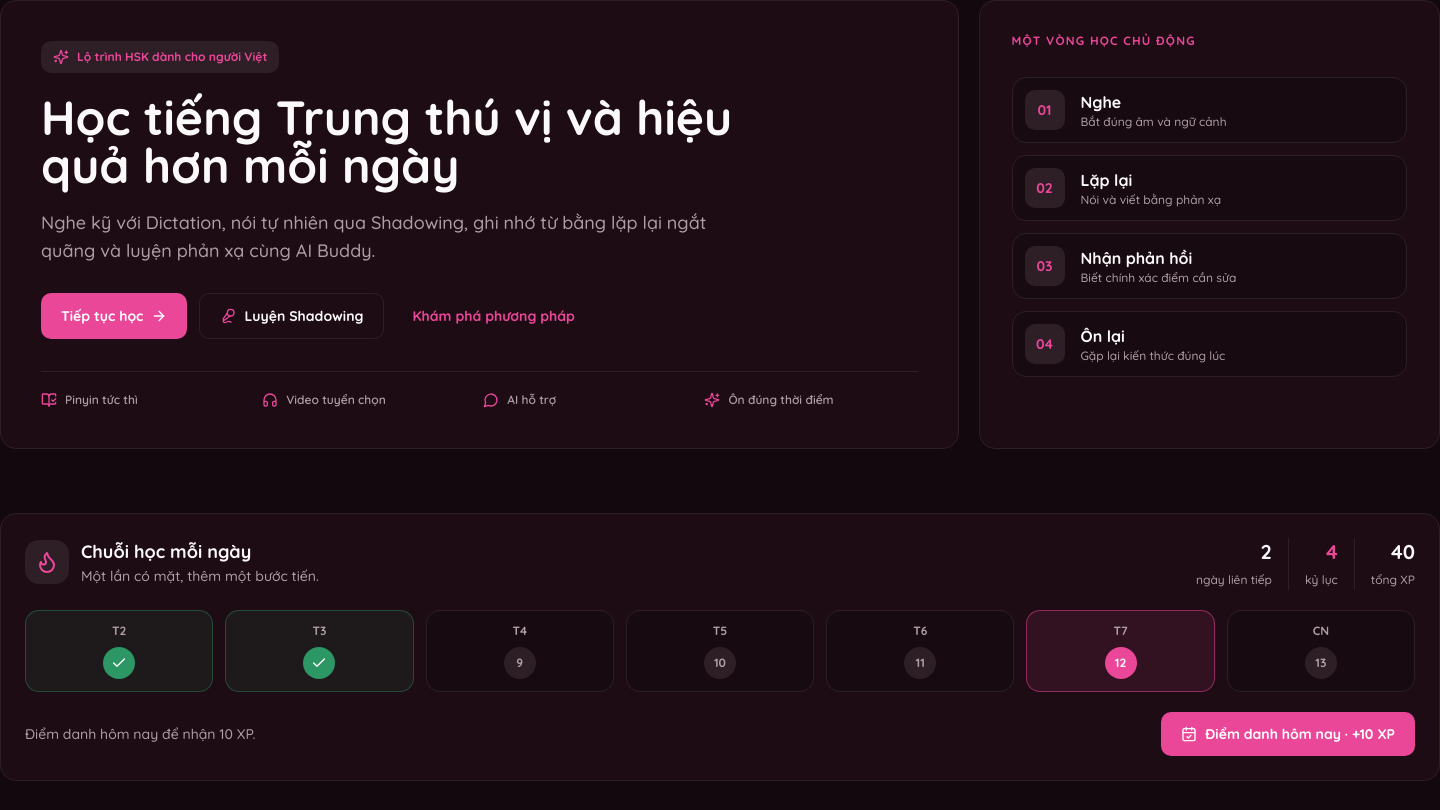
Test: HomePage › learner check-in is reconciled from the backend response
Click the button with test id "daily-check-in-button" at (1288, 734), box [1161, 712, 1415, 756]
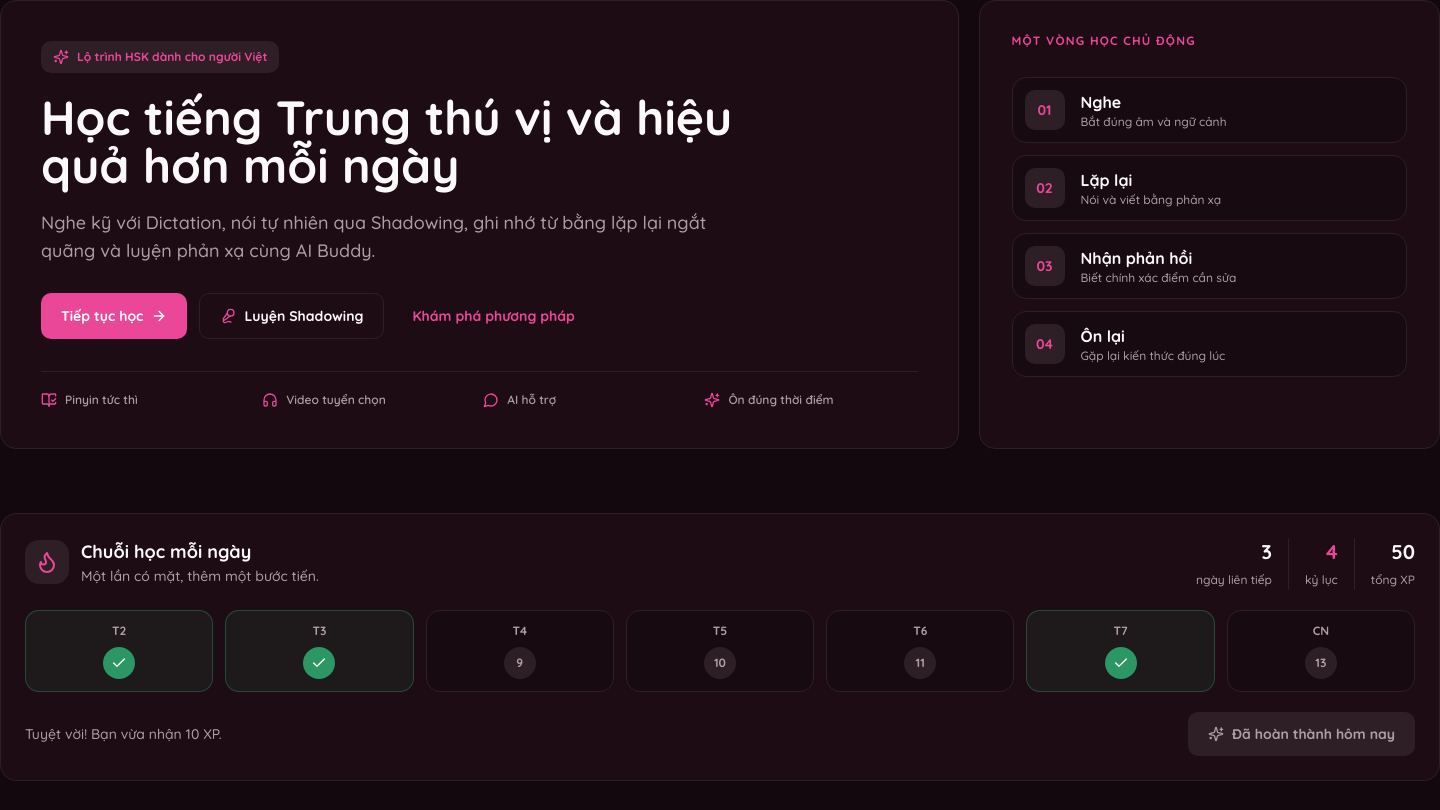
Check: the text "Tuyệt vời! Bạn vừa nhận 10 XP." is shown, box [25, 724, 222, 744]
Check: the button with test id "daily-check-in-button" is disabled, box [1188, 712, 1415, 756]
